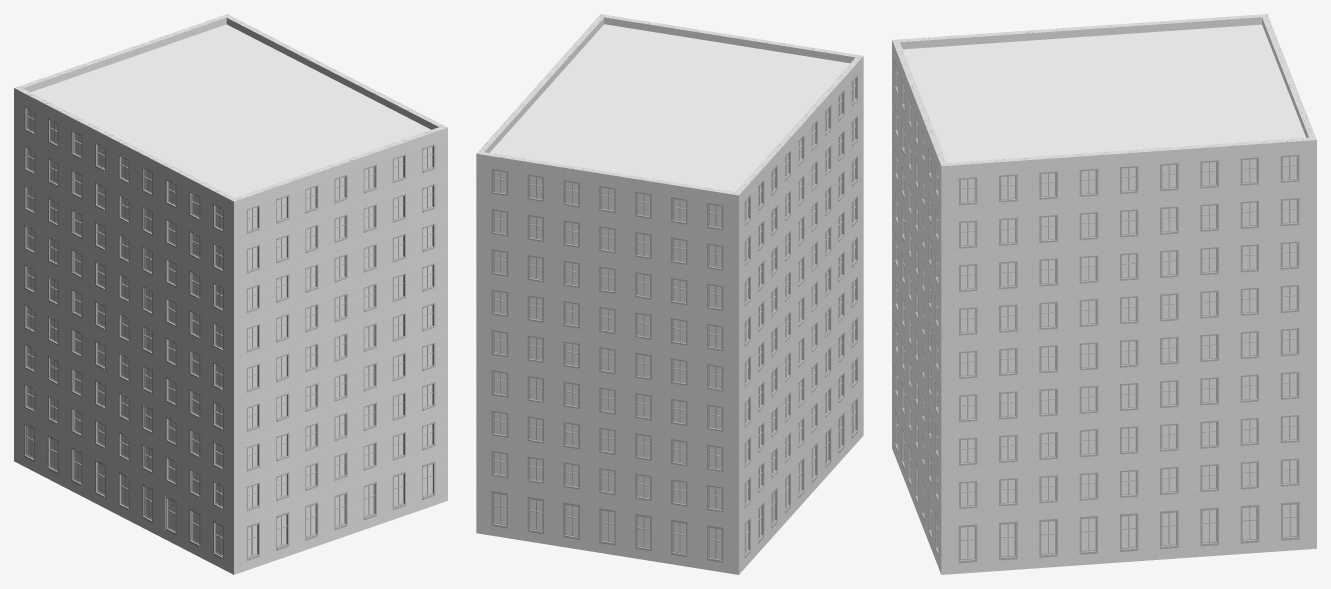
Rendered from clohbphep02vx4p0273p9tbug_0.glb.
The picture shows the model from 3 angles, left to right: view 1: azimuth 30°, elevation 25°; view 2: azimuth 150°, elevation 25°; view 3: azimuth 270°, elevation 25°; orthographic projection. The views are drawn at different scales.
Visible parts, largest first — view 1: mesh_Brick, mesh_CityEnginePBRShader, mesh_Rim, mesh_Glass; view 2: mesh_Brick, mesh_CityEnginePBRShader, mesh_Rim, mesh_Glass; view 3: mesh_Brick, mesh_CityEnginePBRShader, mesh_Rim, mesh_Glass.
Boxes of the visible parts, left/top/right/bottom form: mesh_Brick: left=14, top=14, right=447, bottom=574; mesh_CityEnginePBRShader: left=31, top=24, right=430, bottom=197; mesh_Rim: left=24, top=106, right=435, bottom=560; mesh_Glass: left=27, top=108, right=432, bottom=556; mesh_Brick: left=476, top=14, right=863, bottom=574; mesh_CityEnginePBRShader: left=490, top=24, right=849, bottom=191; mesh_Rim: left=491, top=75, right=857, bottom=562; mesh_Glass: left=494, top=80, right=855, bottom=558; mesh_Brick: left=892, top=14, right=1316, bottom=574; mesh_CityEnginePBRShader: left=902, top=24, right=1306, bottom=162; mesh_Rim: left=895, top=61, right=1299, bottom=563; mesh_Glass: left=897, top=69, right=1296, bottom=558.
Size of the model in its own units: 26.77 by 33.52 by 31.56.
4 materials, 1 textured.
